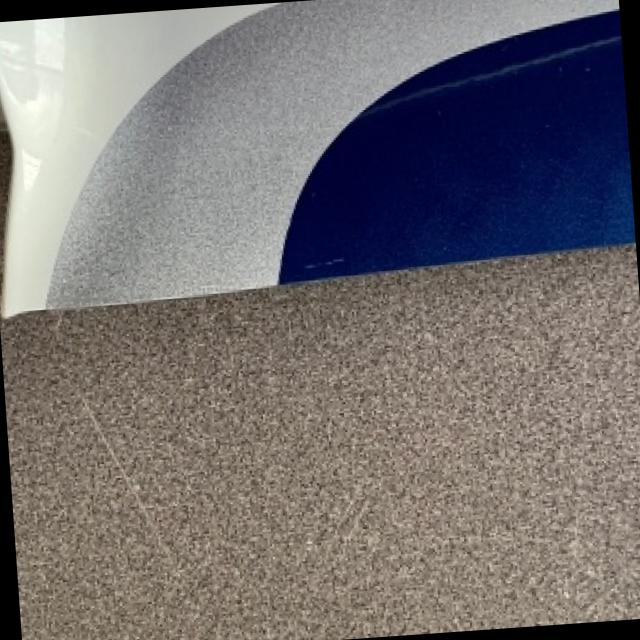healthy: (0, 0, 640, 640), (0, 0, 617, 310)
